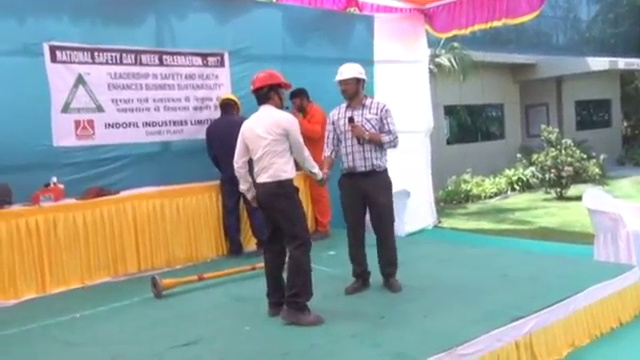helmet: (250, 68, 294, 91), (332, 61, 369, 84), (218, 93, 242, 113)
helmet_off: (288, 84, 314, 117)
helmet_on: (249, 67, 294, 114), (331, 61, 370, 109), (217, 92, 243, 120)
person: (232, 68, 325, 327), (323, 62, 404, 293), (205, 92, 260, 257), (287, 82, 335, 242)
